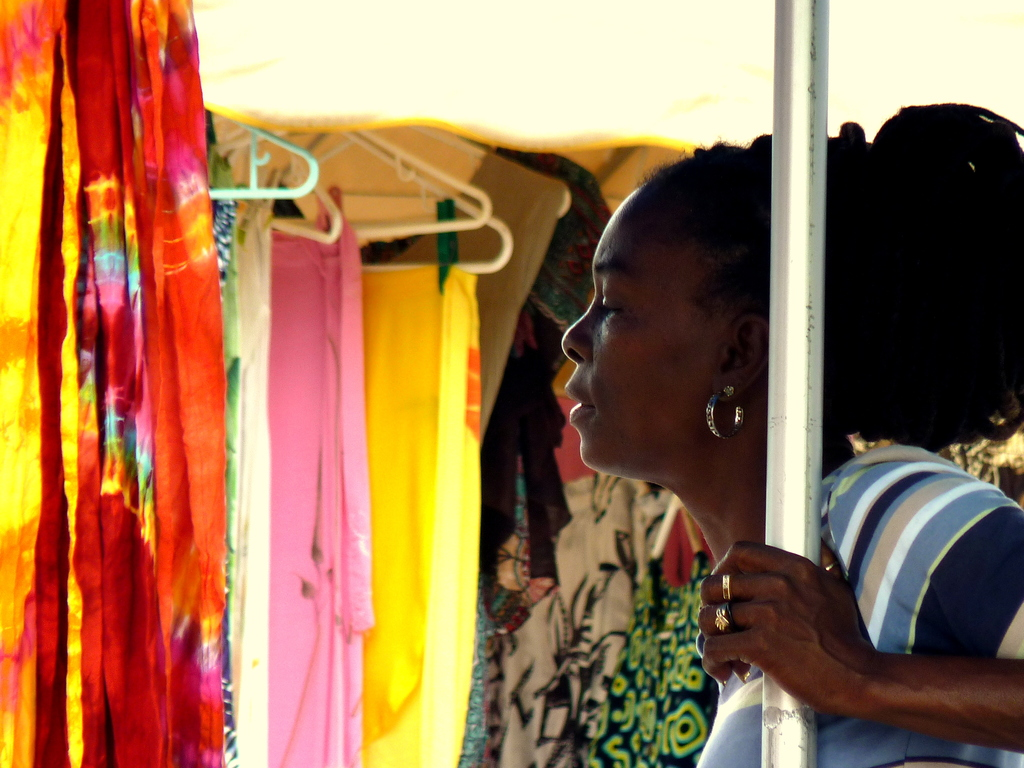Human_hand: (706, 539, 963, 719)
